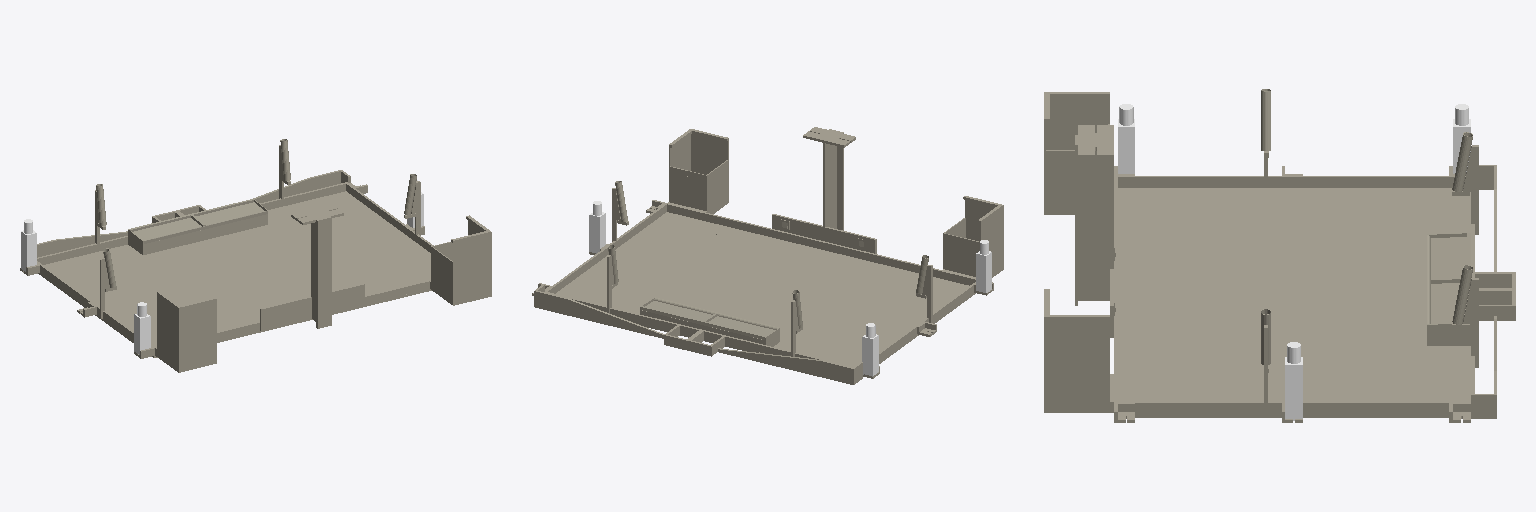
robot.urdf — field:
<?xml version="1.0"?>
<robot name="field">
  <material name="Grey">
    <color rgba=".99 .98 .88 1"/>
  </material>
  <material name="White">
    <color rgba="1 1 1 1"/>
  </material>

  <link
    name="table">
    <inertial>
      <origin
        xyz="1.5 1.0647 -0.0033004"
        rpy="0 0 0" />
      <mass
        value="165.19" />
      <inertia
        ixx="13.61"
        ixy="-1.3214E-14"
        ixz="-4.0492E-15"
        iyy="113.31"
        iyz="-0.4109"
        izz="126.82" />
    </inertial>
    <visual>
      <origin
        xyz="0 0 -0.015"
        rpy="0 0 0" />
      <geometry>
        <mesh
          filename="package://eurobot_loc/models/tableold.STL" />
      </geometry>
      <material
        name="grey">
        <color
          rgba="0.71 0.69 0.63 1" />
      </material>
    </visual>
    <!--collision>
      <origin
        xyz="0 0 0"
        rpy="0 0 0" />
      <geometry>
        <mesh
          filename="package://eurobot_sim/models/table.STL" />
      </geometry>
    </collision-->
  </link>

  <!--link name="table">
     <visual>
       <origin xyz="1.5 1.0 -0.011" rpy="0 0 0" />
       <geometry>
         <box size="3.044 2.044 0.022" />
       </geometry>
       <material name="Grey"/>
     </visual>
     <collision>
       <origin xyz="1.5 1.0 -0.01" rpy="0 0 0"/>
       <geometry>
         <box size="3.044 2.044 0.02" />
       </geometry>
     </collision>

     <visual>
       <origin xyz="-0.011 1.0 0.035" rpy="0 0 0" />
       <geometry>
         <box size="0.022 2.044 0.070" />
       </geometry>
       <material name="Grey"/>
     </visual>
     <collision>
       <origin xyz="-0.011 1.0 0.035" rpy="0 0 0"/>
       <geometry>
         <box size="0.022 2.044 0.070" />
       </geometry>
     </collision>

     <visual>
       <origin xyz="3.011 1.0 0.035" rpy="0 0 0" />
       <geometry>
         <box size="0.022 2.044 0.070" />
       </geometry>
       <material name="Grey"/>
     </visual>
     <collision>
       <origin xyz="3.011 1.0 0.035" rpy="0 0 0"/>
       <geometry>
         <box size="0.022 2.044 0.070" />
       </geometry>
     </collision>

     <visual>
       <origin xyz="1.5 -0.011 0.035" rpy="0 0 0" />
       <geometry>
         <box size="3.0 0.022 0.070" />
       </geometry>
       <material name="Grey"/>
     </visual>
     <collision>
       <origin xyz="1.5 -0.011 0.035" rpy="0 0 0"/>
       <geometry>
         <box size="3.0 0.022 0.070" />
       </geometry>
     </collision>

     <visual>
       <origin xyz="1.5 2.011 0.035" rpy="0 0 0" />
       <geometry>
         <box size="3.0 0.022 0.070" />
       </geometry>
       <material name="Grey"/>
     </visual>
     <collision>
       <origin xyz="1.5 2.011 0.035" rpy="0 0 0"/>
       <geometry>
         <box size="3.0 0.022 0.070" />
       </geometry>
     </collision>

   </link-->

   <link name="beacons">
     <visual>
       <origin xyz="-.094 .05 .4" rpy="0 0 0" />
       <geometry>
         <cylinder length="0.1" radius="0.04"/>
       </geometry>
       <material name="White"/>
     </visual>
     <collision>
       <origin xyz="-.094 .05 .4" rpy="0 0 0"/>
       <geometry>
         <cylinder length="0.1" radius="0.04"/>
       </geometry>
     </collision>

     <visual>
       <origin xyz="-0.092 .05 .175" rpy="0 0 0" />
       <geometry>
         <box size=".1 .1 .35" />
       </geometry>
       <material name="White"/>
     </visual>


     <visual>
       <origin xyz="-.094 1.95 .4" rpy="0 0 0" />
       <geometry>
         <cylinder length="0.1" radius="0.04"/>
       </geometry>
       <material name="White"/>
     </visual>
     <collision>
       <origin xyz="-.094 1.95 .4" rpy="0 0 0"/>
       <geometry>
         <cylinder length="0.1" radius="0.04"/>
       </geometry>
     </collision>

     <visual>
       <origin xyz="-0.092 1.95 .175" rpy="0 0 0" />
       <geometry>
         <box size=".1 .1 .35" />
       </geometry>
       <material name="White"/>
     </visual>


     <visual>
       <origin xyz="3.094 1 .4" rpy="0 0 0" />
       <geometry>
         <cylinder length="0.1" radius="0.04"/>
       </geometry>
       <material name="White"/>
     </visual>
     <collision>
       <origin xyz="3.094 .5 .4" rpy="0 0 0"/>
       <geometry>
         <cylinder length="0.1" radius="0.04"/>
       </geometry>
     </collision>

     <visual>
       <origin xyz="3.092 1 .175" rpy="0 0 0" />
       <geometry>
         <box size=".1 .1 .35" />
       </geometry>
       <material name="White"/>
     </visual>

    </link>

    <joint name="table_to_beacons" type="fixed">
      <parent link="table"/>
      <child link="beacons"/>
    </joint>
</robot>

--- Facts derived from the render (not from the file) ---
3 views of the same robot in one strip: view 1: azimuth 30°, elevation 25°; view 2: azimuth 150°, elevation 25°; view 3: azimuth 270°, elevation 25° (orthographic).
Robot: field — 2 links, 1 joints (1 fixed); root link table; default pose: all joints at 0.
Visible links, largest first — view 1: table, beacons; view 2: table, beacons; view 3: table, beacons.
Boxes of the visible links, left/top/right/bottom form: table: left=20, top=139, right=491, bottom=372; beacons: left=21, top=180, right=423, bottom=354; table: left=532, top=127, right=1003, bottom=384; beacons: left=589, top=201, right=991, bottom=376; table: left=1044, top=89, right=1515, bottom=422; beacons: left=1118, top=104, right=1470, bottom=420.
Size in the robot's own frame: 3.29 by 2.67 by 1.02 metres.
Meshes: 1 distinct files referenced, 1 mesh visuals loaded (1 binary STL).